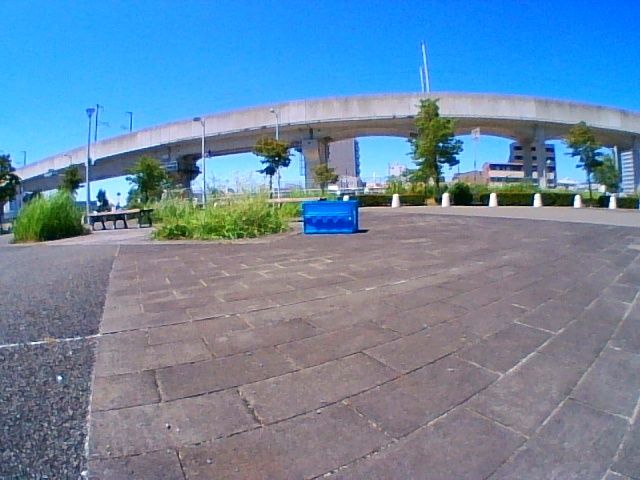blue_box: (304, 202, 357, 232)
tag: (353, 210, 355, 224)
